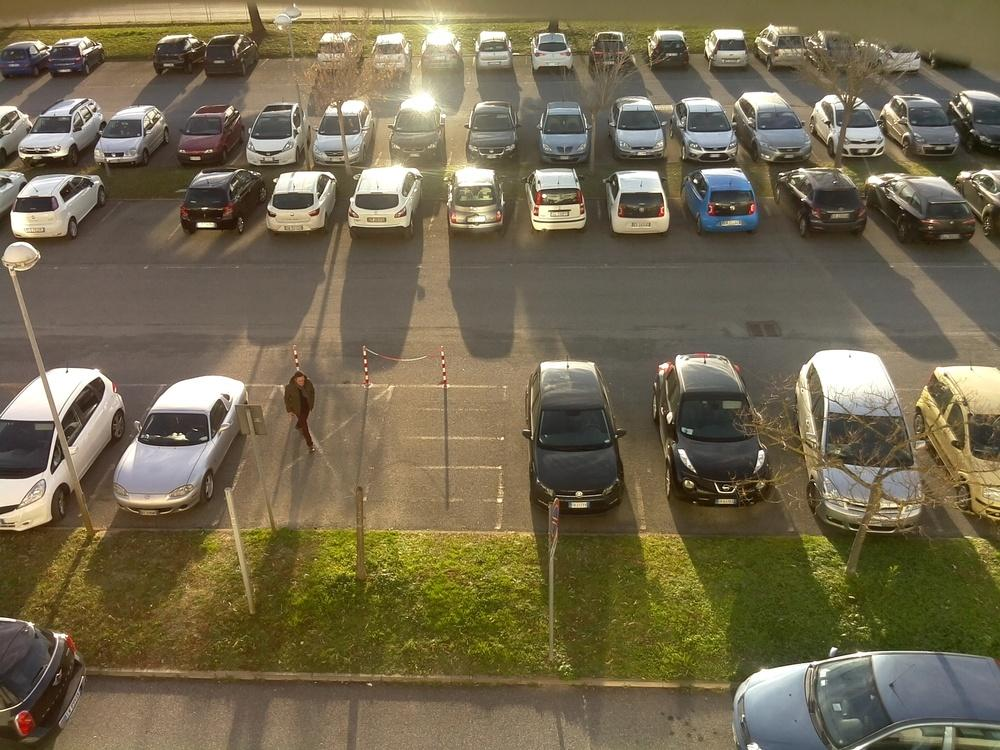empty: (736, 646, 1000, 750), (789, 347, 923, 537), (650, 349, 792, 505), (108, 375, 249, 519), (2, 364, 122, 532), (526, 364, 633, 510), (3, 621, 85, 744), (879, 173, 985, 246), (6, 176, 112, 244), (931, 372, 997, 480), (685, 165, 775, 239), (786, 170, 881, 238), (257, 166, 347, 235), (176, 167, 265, 236), (602, 165, 682, 238), (342, 164, 426, 233), (884, 92, 970, 158), (16, 101, 105, 164), (741, 97, 822, 165), (672, 92, 748, 161), (92, 107, 172, 171), (521, 166, 595, 234), (819, 95, 897, 158), (168, 108, 248, 166), (445, 167, 514, 234), (238, 103, 310, 167), (605, 95, 676, 159), (380, 101, 449, 165), (536, 100, 602, 165), (313, 104, 380, 166), (458, 106, 527, 164), (802, 20, 859, 72), (35, 37, 105, 77), (198, 37, 259, 82), (704, 31, 758, 74), (959, 98, 1000, 154), (965, 167, 1000, 232), (153, 35, 208, 75), (313, 30, 364, 73), (644, 30, 697, 68), (755, 27, 807, 65), (372, 29, 411, 78), (416, 31, 464, 69), (1, 41, 47, 80), (584, 33, 632, 70), (529, 32, 574, 70), (468, 33, 518, 67), (875, 44, 928, 73), (2, 112, 30, 166)
occupied: (252, 656, 564, 750), (247, 37, 322, 77), (114, 204, 176, 238), (103, 46, 150, 77)
